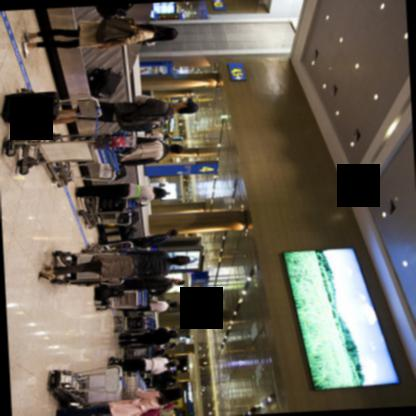backpack: (116, 105, 173, 131), (91, 286, 124, 306), (137, 408, 160, 416)
handbag: (95, 17, 153, 42), (95, 4, 133, 17), (139, 409, 161, 416)
suitcase: (0, 90, 60, 124), (89, 67, 123, 99), (69, 280, 101, 287)
